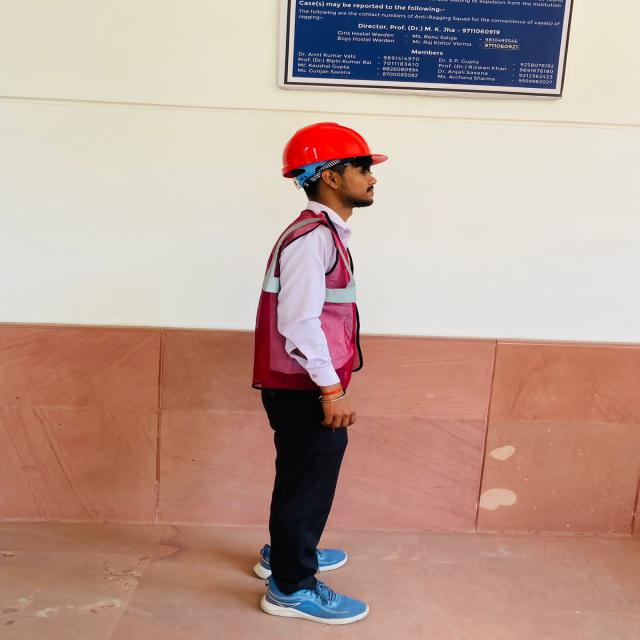safe: (251, 121, 388, 624)
